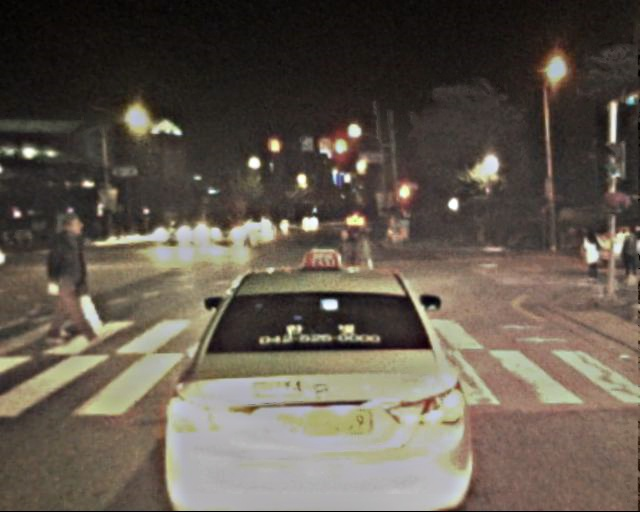person: (44, 209, 98, 345), (339, 230, 375, 316), (580, 230, 604, 288), (617, 227, 639, 285), (407, 214, 429, 251)
